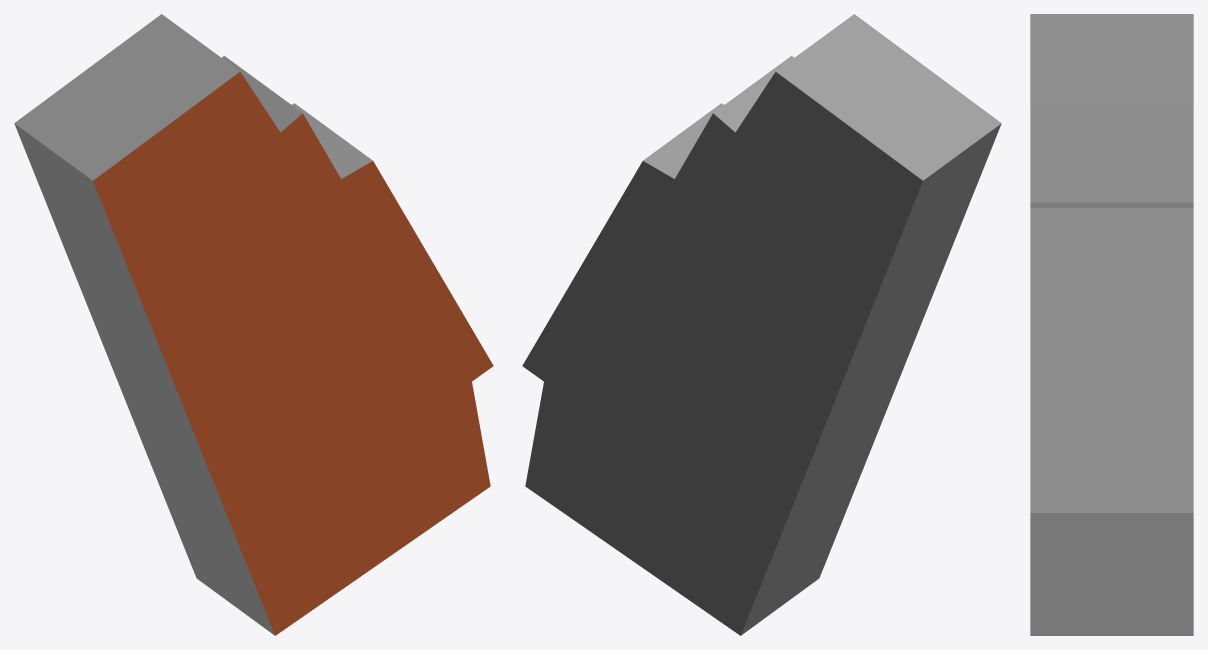
The model's file is construction_5332_assumed_A_Casa_h6m.obj.
3 renders of one model, left to right at view 1: azimuth 30°, elevation 25°; view 2: azimuth 150°, elevation 25°; view 3: azimuth 270°, elevation 25°, orthographic. The views are drawn at different scales.
Visible parts, largest first — view 1: construction_5332_assumed_A_Casa; view 2: construction_5332_assumed_A_Casa; view 3: construction_5332_assumed_A_Casa.
Boxes of the visible parts, box(x1,y1,x2,y2) form: construction_5332_assumed_A_Casa: box(14, 14, 493, 635); construction_5332_assumed_A_Casa: box(522, 14, 1001, 635); construction_5332_assumed_A_Casa: box(1030, 14, 1193, 635).
Size of the model in its own units: 17.65 by 24.1 by 6.
